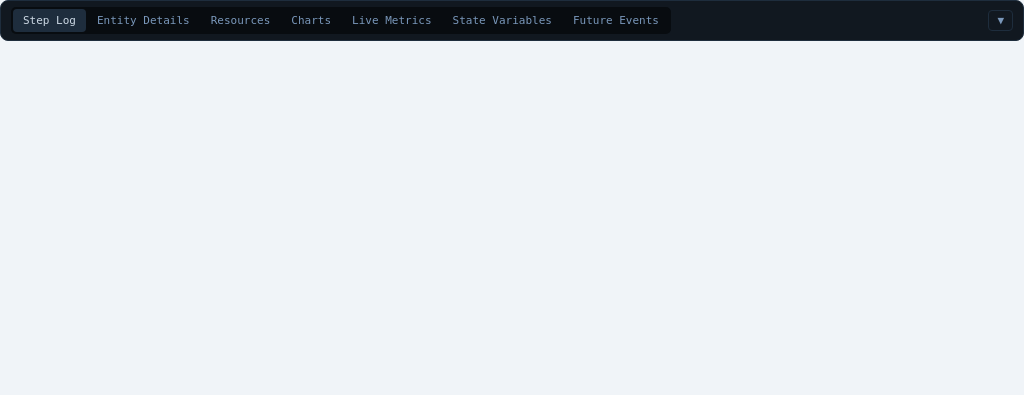
Test: BottomPanel State Variables tab › shows current values for each declared variable
The image size is (1024, 395).
Click the button named "expand details" at (1001, 20), box left=988, top=10, right=1013, bottom=31
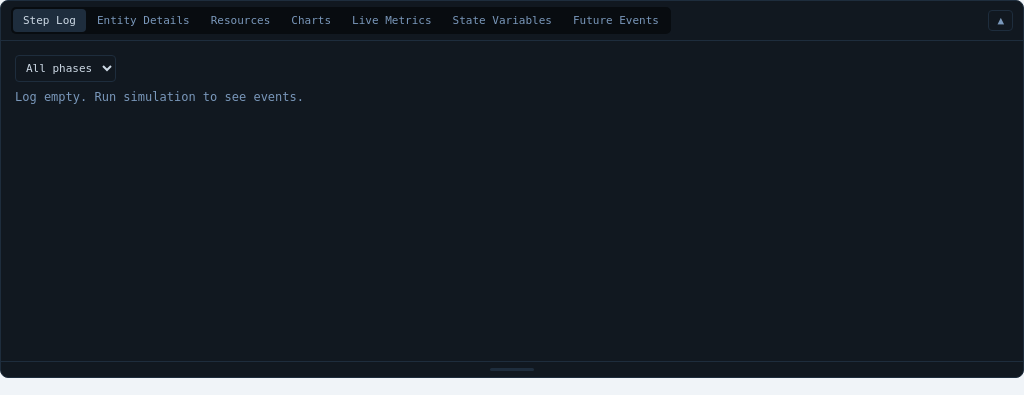
Click the tab "State Variables" at (502, 20), box left=442, top=9, right=562, bottom=32
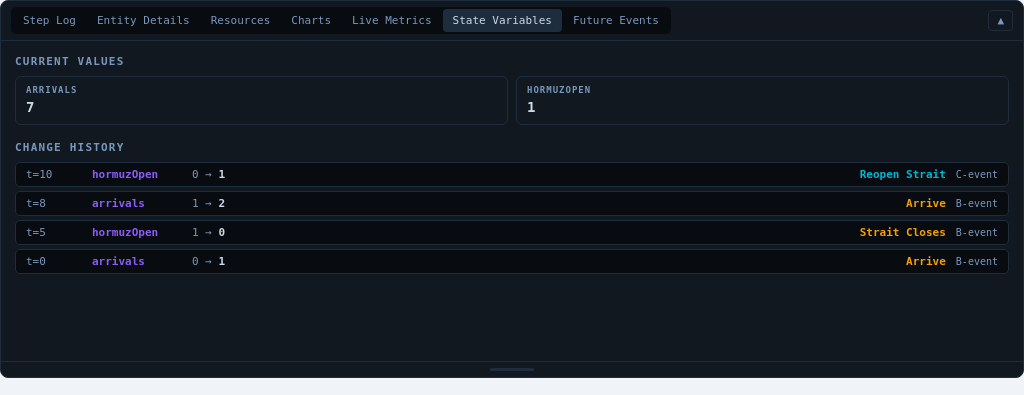
Check: the text "ARRIVALS" is shown, box left=26, top=85, right=77, bottom=95
Check: the text "HORMUZOPEN" is shown, box left=527, top=85, right=591, bottom=95
Check: the text "7" is shown, box left=26, top=99, right=34, bottom=115
